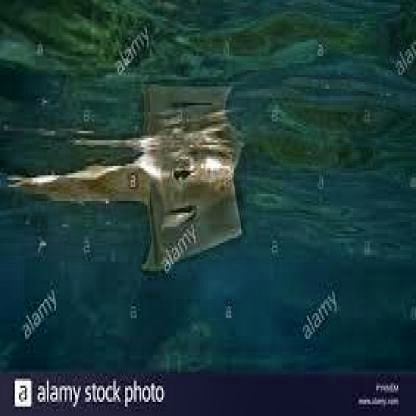pbag: (7, 152, 244, 271)
